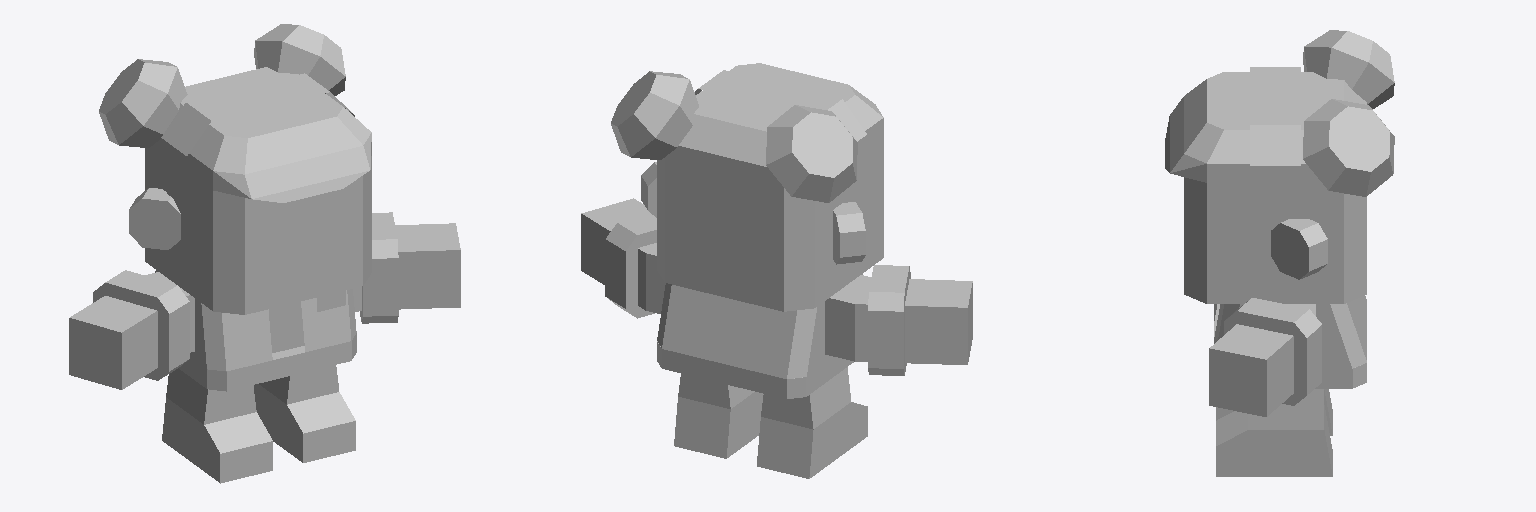
File: character-employee.obj
3 views of the same model, side by side, from view 1: azimuth 30°, elevation 25°; view 2: azimuth 150°, elevation 25°; view 3: azimuth 270°, elevation 25° (orthographic).
Parts seen in each view (by area): view 1: head-mesh, body-mesh; view 2: head-mesh, body-mesh; view 3: head-mesh, body-mesh.
Part boxes in pixels (bbox=[...]): head-mesh: bbox=[99, 24, 371, 314]; body-mesh: bbox=[69, 212, 460, 483]; head-mesh: bbox=[611, 63, 883, 311]; body-mesh: bbox=[581, 198, 972, 478]; head-mesh: bbox=[1165, 30, 1394, 303]; body-mesh: bbox=[1209, 296, 1366, 476].
Size of the model in its own units: 0.7806 by 0.7234 by 0.4014.